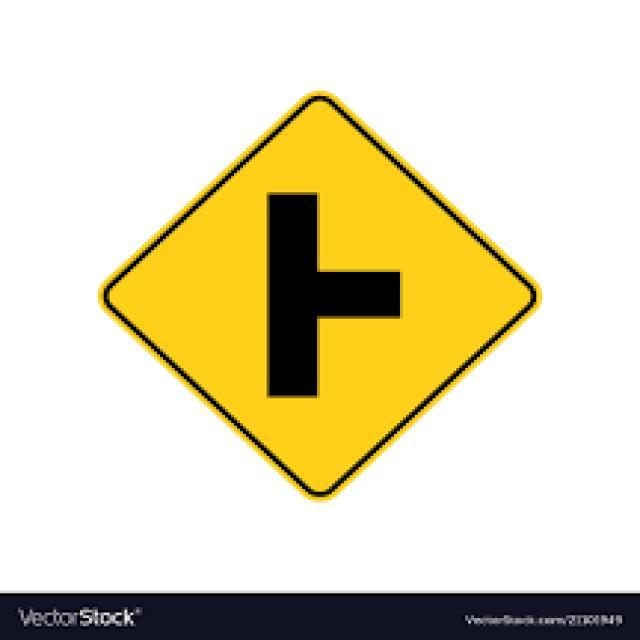side road right: (89, 79, 563, 509)
